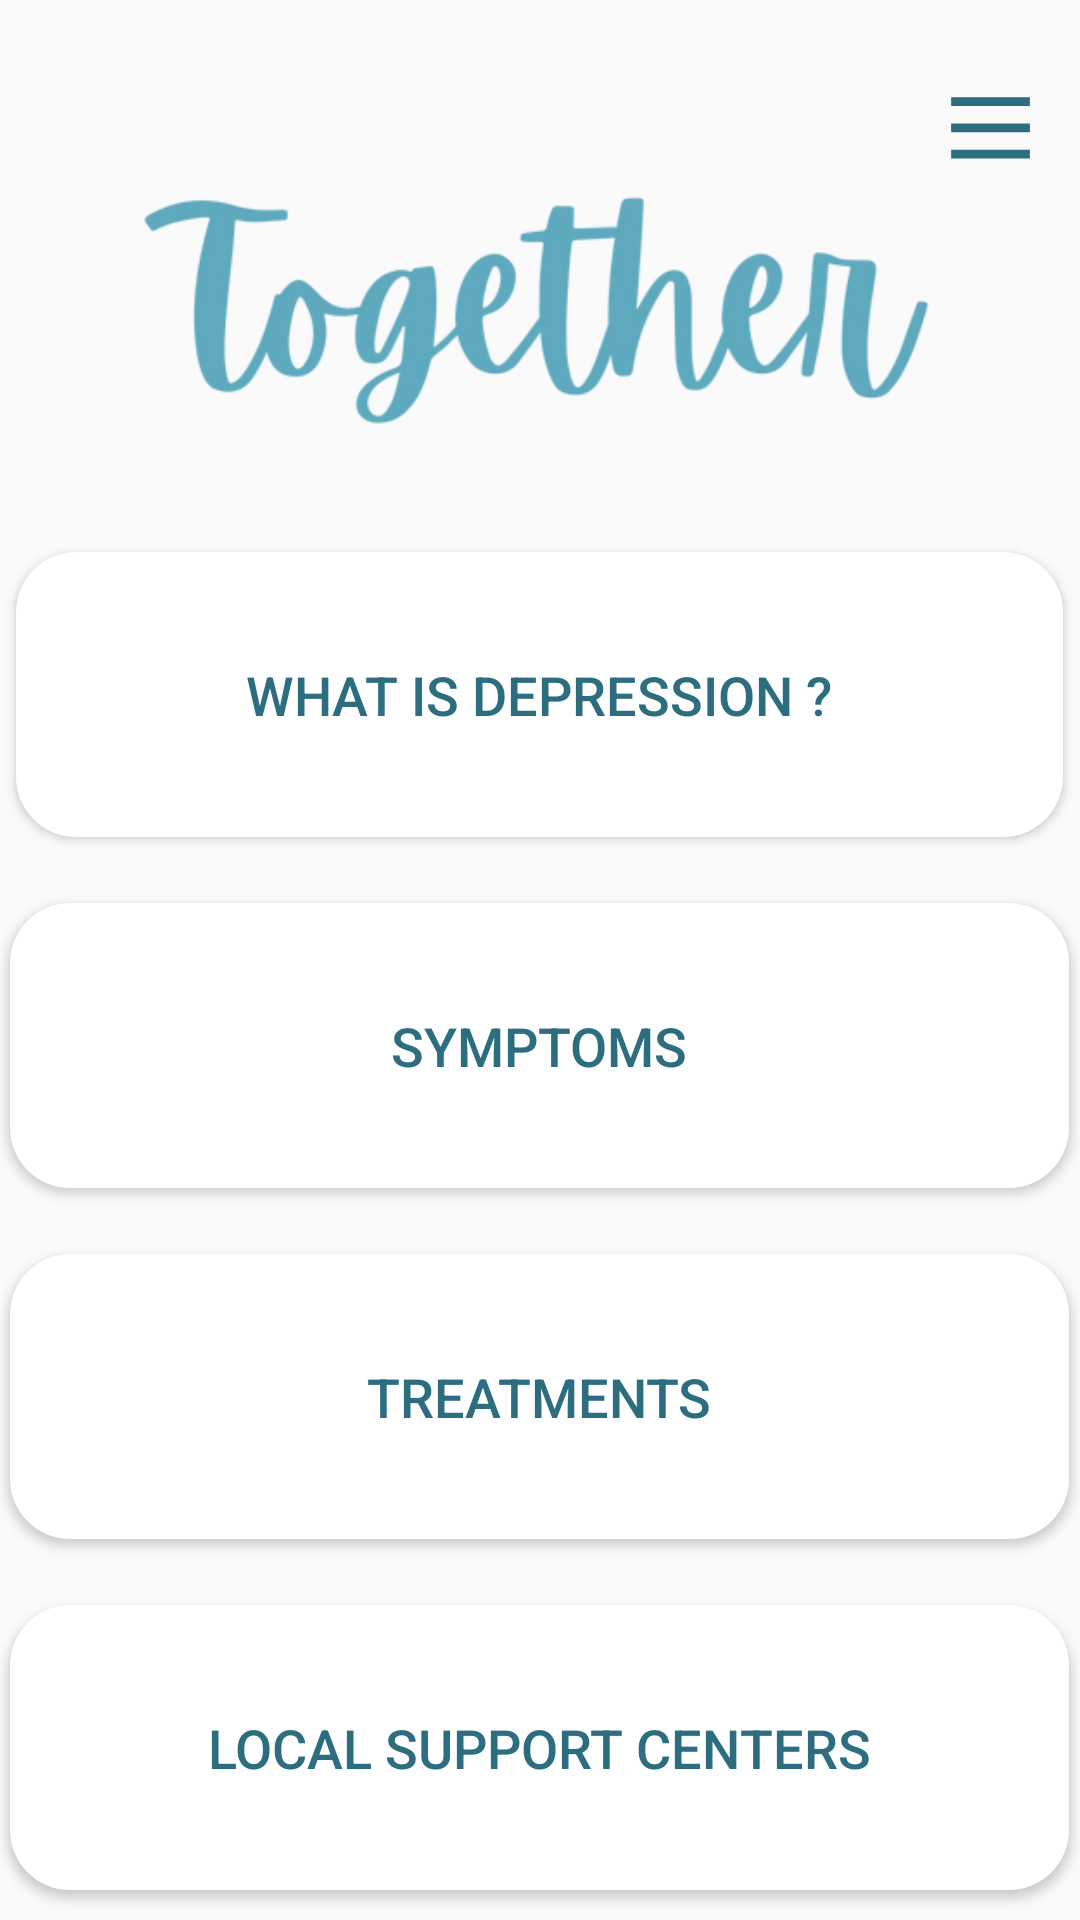

Where to tap for icons on this 1080×1920 app screen, as (x,y):
hamburger: (990,128)
